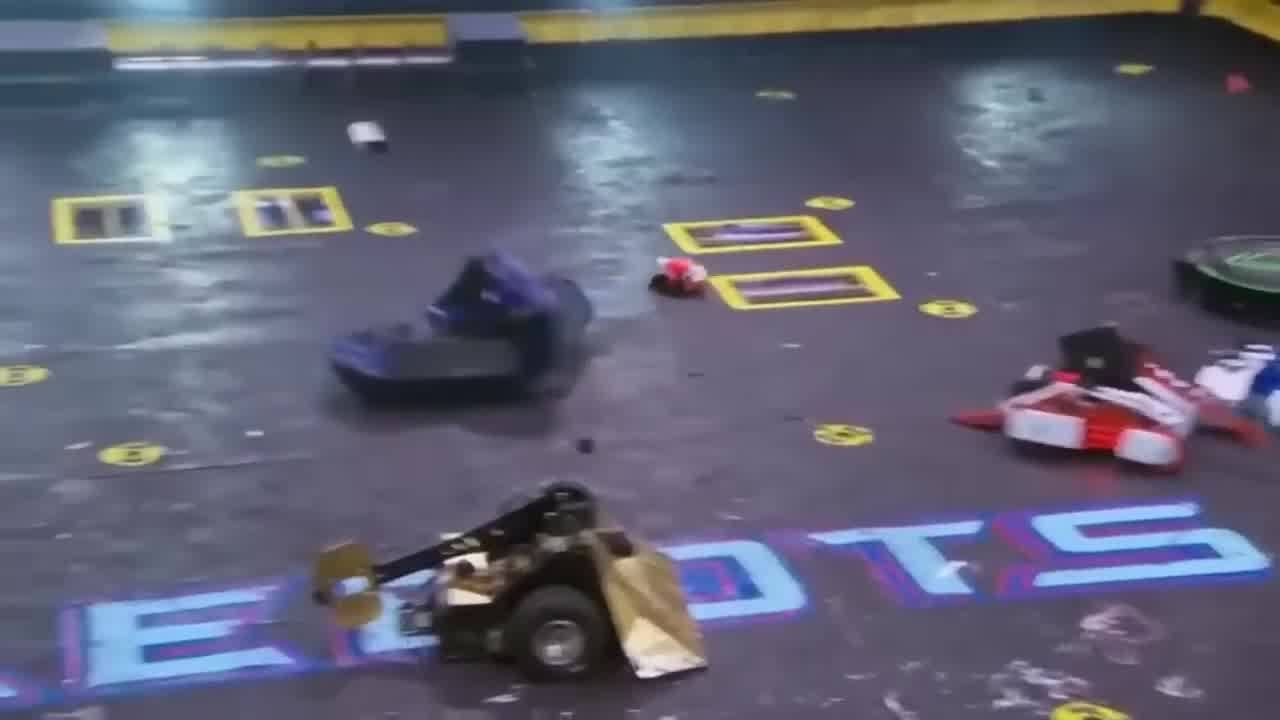combatbot: (313, 478, 710, 683), (326, 247, 599, 411), (950, 325, 1202, 476), (1190, 341, 1280, 460), (1173, 236, 1280, 321)
debris: (646, 257, 712, 302)
